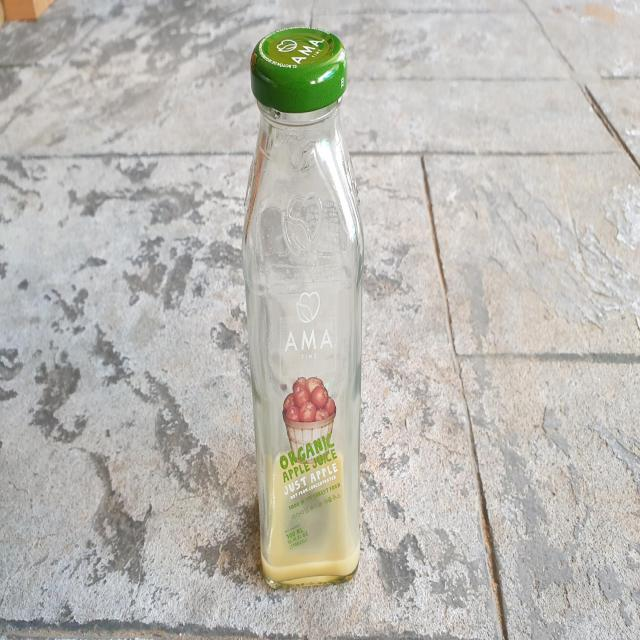glass: (242, 25, 363, 586)
